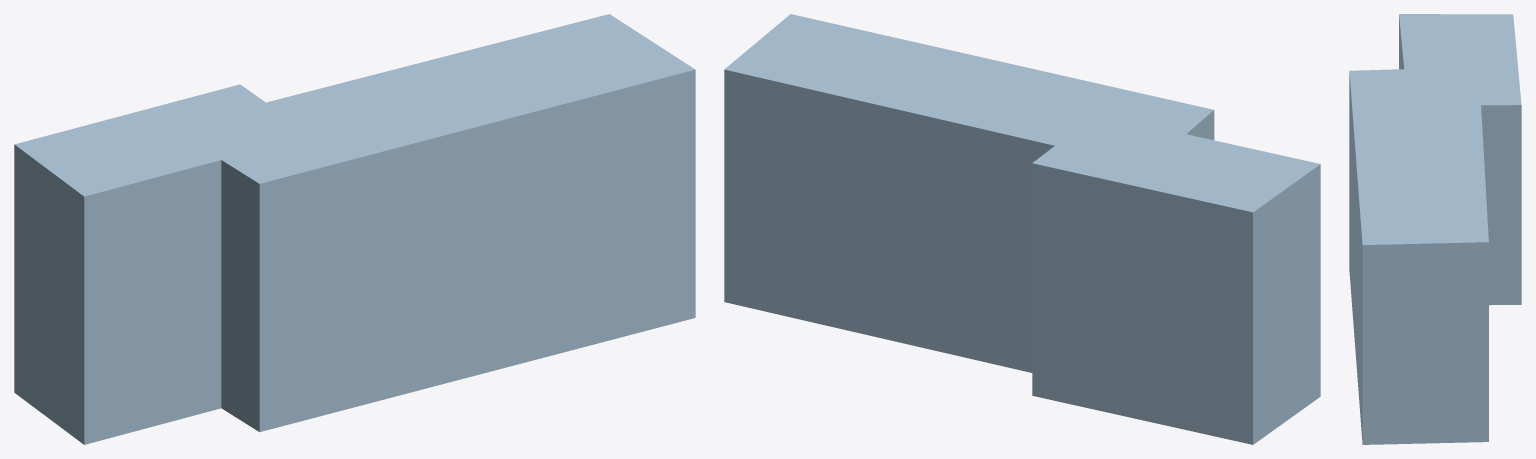
Rendered from osm_way_223859813.glb.
3 views of the same model, side by side, from view 1: azimuth 30°, elevation 25°; view 2: azimuth 150°, elevation 25°; view 3: azimuth 270°, elevation 25° (orthographic). The views are drawn at different scales.
Visible parts, largest first — view 1: osm_way_223859813; view 2: osm_way_223859813; view 3: osm_way_223859813.
Boxes of the visible parts, box(x1,y1,x2,y2) form: osm_way_223859813: box(14, 14, 695, 444); osm_way_223859813: box(724, 14, 1320, 444); osm_way_223859813: box(1349, 14, 1521, 444).
Bounding box in the file's own units: 47.63 × 19.2 × 14.99.
